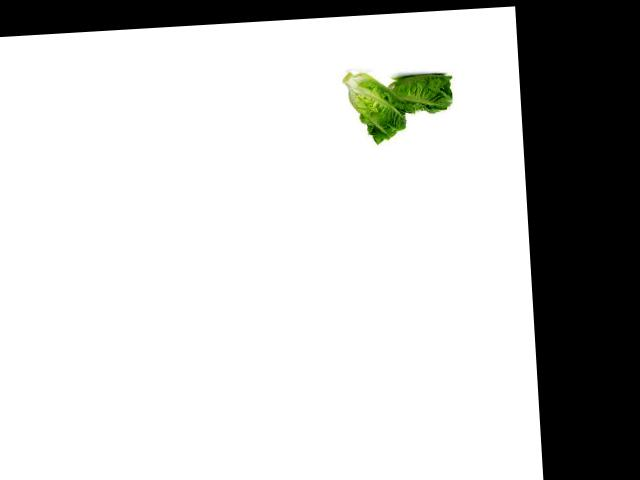lettuce: (340, 63, 415, 143)
